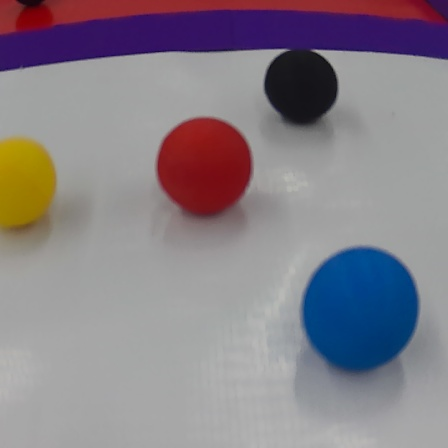black: (259, 49, 344, 126)
blue: (301, 248, 424, 371)
red: (151, 116, 261, 226)
red_aim: (1, 0, 448, 76)
yellow: (0, 134, 59, 231)
